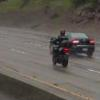Motorcycle: (40, 31, 76, 75)
